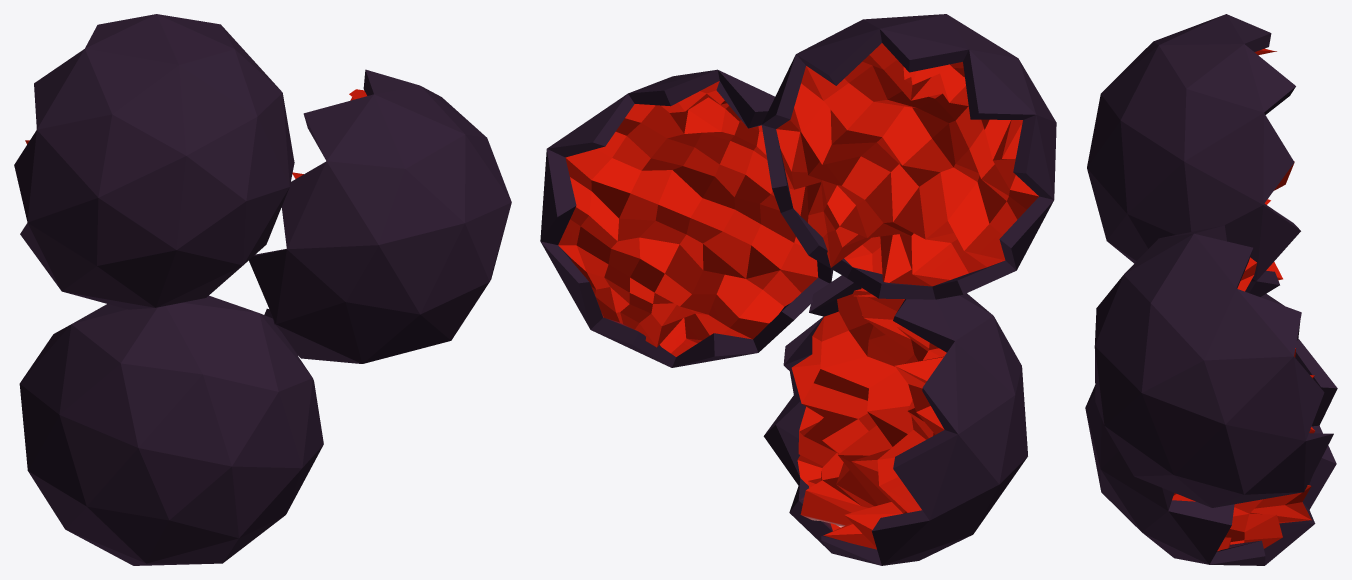
The model's file is Geodes.fbx.
The picture shows the model from 3 angles, left to right: view 1: azimuth 30°, elevation 25°; view 2: azimuth 150°, elevation 25°; view 3: azimuth 270°, elevation 25°; orthographic projection. The views are drawn at different scales.
Parts seen in each view (by area): view 1: Icosphere.002; view 2: Icosphere.002; view 3: Icosphere.002.
Part boxes in pixels (x1,y1,x2,y2): Icosphere.002: (14, 14, 511, 565); Icosphere.002: (540, 14, 1056, 565); Icosphere.002: (1085, 14, 1337, 565).
Bounding box in the file's own units: 357 × 379 × 170.
